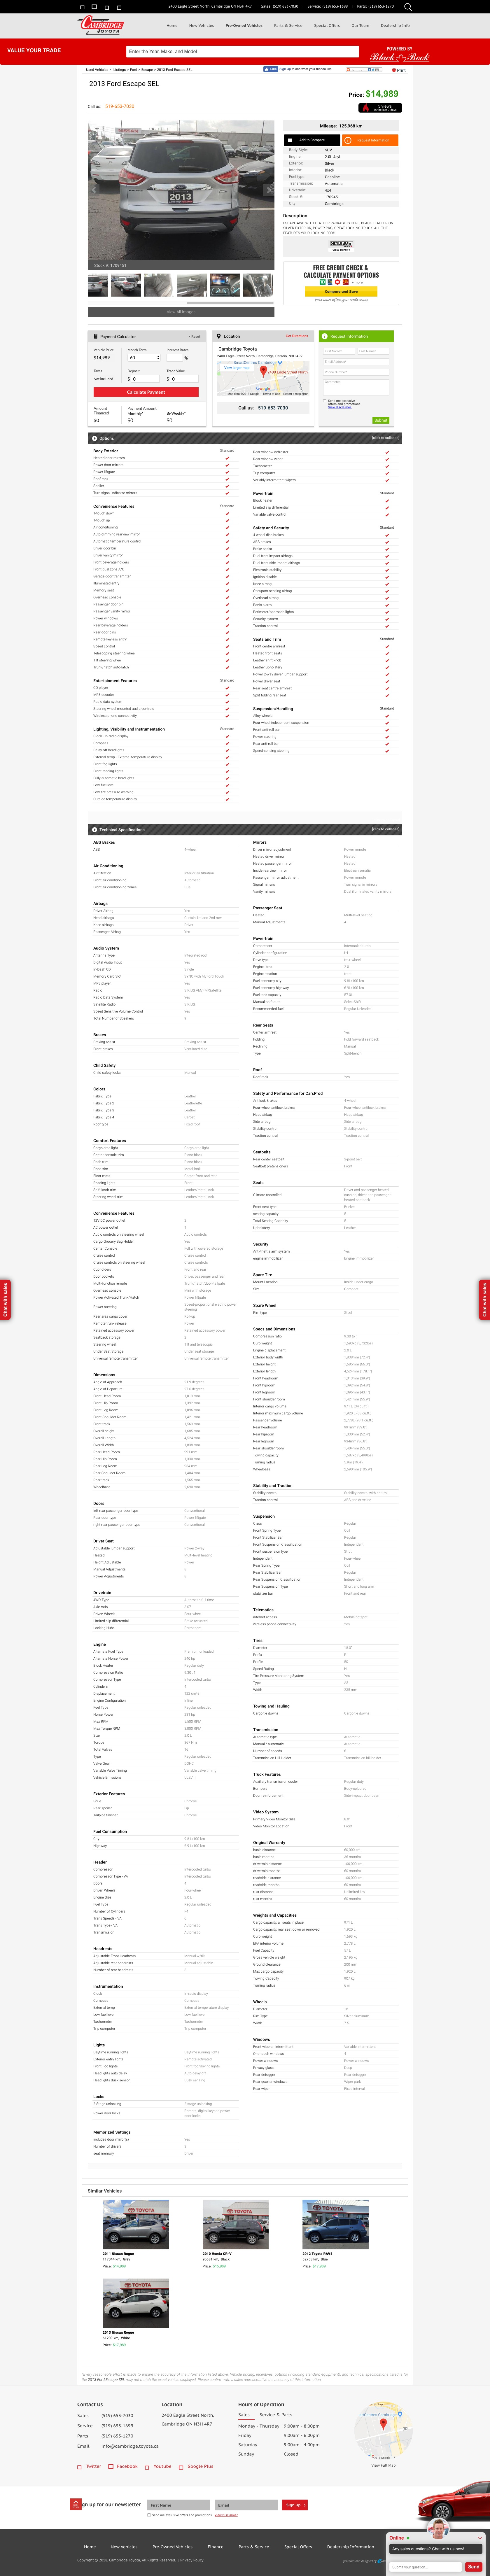car: (263, 184, 275, 197)
